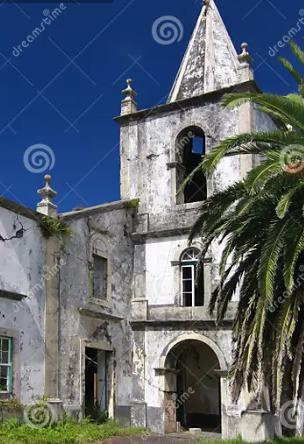crack: (1, 209, 26, 247)
